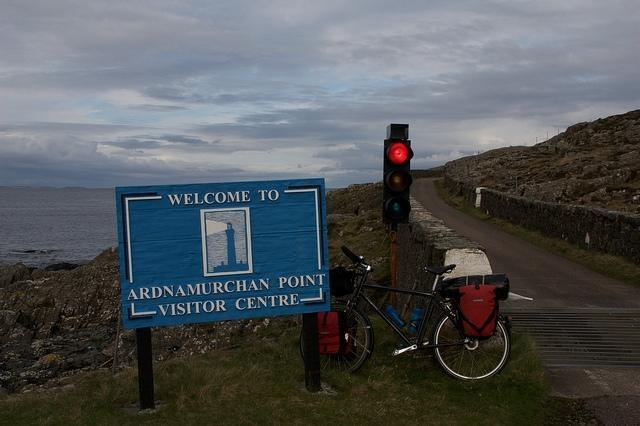bicycle: (317, 246, 514, 381)
